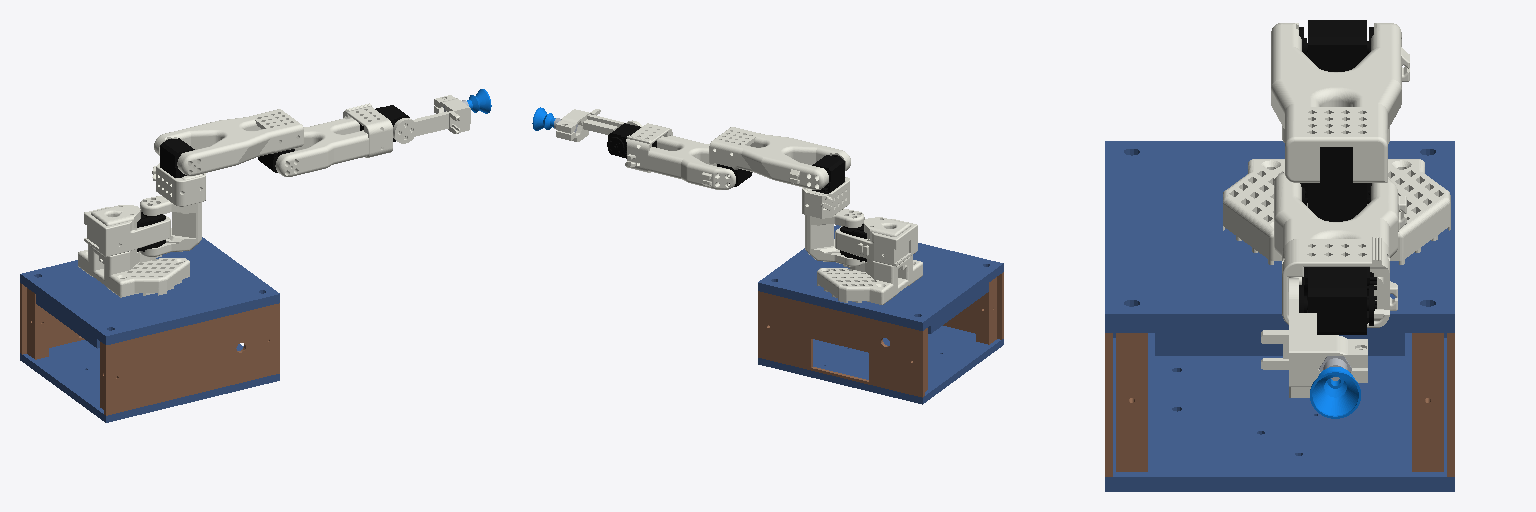
The robot description file, URDF, robot "soarm4":
<?xml version="1.0"?>
<!-- SO-ARM4 (SO-ARM101 based 4-DOF + vacuum tool v5) on the electronics box.  Generated by make_urdf_v2.py - edit that, not this.
     Geometry = official SO-101 CAD (TheRobotStudio so101_new_calib.urdf) + our parts.
     base_link : table surface right under the J1 axis.  x = forward (box front wall), y = left, z = up.
     zero pose : arm stretched forward and level.  joint1 + = CCW from above, joint2/3/4 + = link goes up.
     servo count <-> angle : config/servo_map.yaml  (same as v1, soarm_bridge unchanged)
     key numbers (mm, base_link) : box top z 95.0 | J1 output z 159.8 | J2 axis x 30.4 z 214.0
                                   J2->J3 (112.6, -28.0) | J3->J4 (134.9, 5.2) | J4->cup lip (104.0, -0.5, 0.0) -->
<robot name="soarm4">
  <material name="print"><color rgba="0.92 0.92 0.88 1"/></material><material name="servo"><color rgba="0.10 0.10 0.10 1"/></material><material name="alu"><color rgba="0.75 0.77 0.80 1"/></material><material name="cup"><color rgba="0.10 0.55 0.95 1"/></material><material name="box_plate"><color rgba="0.30 0.42 0.62 1"/></material><material name="box_wall"><color rgba="0.62 0.46 0.36 1"/></material>
  <link name="world"/>
  <joint name="world_fixed" type="fixed"><parent link="world"/><child link="base_link"/><origin xyz="0 0 0" rpy="0 0 0"/></joint>

  <link name="base_link">
    <visual><origin xyz="0 0 0" rpy="0 0 0"/><geometry><mesh filename="package://soarm4_description/meshes/visual/base_link_print.stl"/></geometry><material name="print"/></visual>
    <visual><origin xyz="0 0 0" rpy="0 0 0"/><geometry><mesh filename="package://soarm4_description/meshes/visual/base_link_servo.stl"/></geometry><material name="servo"/></visual>
    <visual><origin xyz="0 0 0" rpy="0 0 0"/><geometry><mesh filename="package://soarm4_description/meshes/visual/base_link_box_plate.stl"/></geometry><material name="box_plate"/></visual>
    <visual><origin xyz="0 0 0" rpy="0 0 0"/><geometry><mesh filename="package://soarm4_description/meshes/visual/base_link_box_wall.stl"/></geometry><material name="box_wall"/></visual>
    <collision><origin xyz="-0.0177 -0.0275 0.0475" rpy="0 0 0"/><geometry><box size="0.2000 0.1700 0.0950"/></geometry></collision>
    <collision><origin xyz="0 0 0" rpy="0 0 0"/><geometry><mesh filename="package://soarm4_description/meshes/collision/base_link.stl"/></geometry></collision>
    <inertial><origin xyz="-0.0183 -0.0208 0.0673" rpy="0 0 0"/><mass value="0.7280"/><inertia ixx="2.753e-03" ixy="1.283e-05" ixz="6.264e-05" iyy="3.355e-03" iyz="-1.190e-04" izz="3.810e-03"/></inertial>
  </link>
  <joint name="joint1" type="revolute"><parent link="base_link"/><child link="link1"/>
    <origin xyz="0.00000 0.00000 0.15980" rpy="0 0 0"/><axis xyz="0 0 1"/>
    <limit lower="-2.1859" upper="1.8208" effort="2.9" velocity="2.36"/>
  </joint>

  <link name="link1">
    <visual><origin xyz="0 0 0" rpy="0 0 0"/><geometry><mesh filename="package://soarm4_description/meshes/visual/link1_servo.stl"/></geometry><material name="servo"/></visual>
    <visual><origin xyz="0 0 0" rpy="0 0 0"/><geometry><mesh filename="package://soarm4_description/meshes/visual/link1_print.stl"/></geometry><material name="print"/></visual>
    <collision><origin xyz="0 0 0" rpy="0 0 0"/><geometry><mesh filename="package://soarm4_description/meshes/collision/link1.stl"/></geometry></collision>
    <inertial><origin xyz="0.0275 0.0003 0.0218" rpy="0 0 0"/><mass value="0.1106"/><inertia ixx="1.053e-04" ixy="2.047e-07" ixz="-1.034e-05" iyy="1.128e-04" iyz="-1.084e-07" izz="4.208e-05"/></inertial>
  </link>
  <joint name="joint2" type="revolute"><parent link="link1"/><child link="link2"/>
    <origin xyz="0.03040 0.00000 0.05420" rpy="0 0 0"/><axis xyz="0 -1 0"/>
    <limit lower="0.0000" upper="3.3993" effort="2.9" velocity="2.36"/>
  </joint>

  <link name="link2">
    <visual><origin xyz="0 0 0" rpy="0 0 0"/><geometry><mesh filename="package://soarm4_description/meshes/visual/link2_servo.stl"/></geometry><material name="servo"/></visual>
    <visual><origin xyz="0 0 0" rpy="0 0 0"/><geometry><mesh filename="package://soarm4_description/meshes/visual/link2_print.stl"/></geometry><material name="print"/></visual>
    <collision><origin xyz="0 0 0" rpy="0 0 0"/><geometry><mesh filename="package://soarm4_description/meshes/collision/link2.stl"/></geometry></collision>
    <inertial><origin xyz="0.0861 0.0004 -0.0082" rpy="0 0 0"/><mass value="0.1156"/><inertia ixx="4.836e-05" ixy="9.409e-07" ixz="1.538e-05" iyy="1.864e-04" iyz="-3.034e-10" izz="2.019e-04"/></inertial>
  </link>
  <joint name="joint3" type="revolute"><parent link="link2"/><child link="link3"/>
    <origin xyz="0.11257 0.00000 -0.02800" rpy="0 0 0"/><axis xyz="0 -1 0"/>
    <limit lower="-3.1401" upper="0.0000" effort="2.9" velocity="2.36"/>
  </joint>

  <link name="link3">
    <visual><origin xyz="0 0 0" rpy="0 0 0"/><geometry><mesh filename="package://soarm4_description/meshes/visual/link3_print.stl"/></geometry><material name="print"/></visual>
    <visual><origin xyz="0 0 0" rpy="0 0 0"/><geometry><mesh filename="package://soarm4_description/meshes/visual/link3_servo.stl"/></geometry><material name="servo"/></visual>
    <collision><origin xyz="0 0 0" rpy="0 0 0"/><geometry><mesh filename="package://soarm4_description/meshes/collision/link3.stl"/></geometry></collision>
    <inertial><origin xyz="0.0885 0.0005 0.0034" rpy="0 0 0"/><mass value="0.1173"/><inertia ixx="4.014e-05" ixy="-1.207e-06" ixz="-5.939e-06" iyy="2.099e-04" iyz="-1.275e-07" izz="2.315e-04"/></inertial>
  </link>
  <joint name="joint4" type="revolute"><parent link="link3"/><child link="tool_link"/>
    <origin xyz="0.13490 0.00000 0.00520" rpy="0 0 0"/><axis xyz="0 -1 0"/>
    <limit lower="-1.8807" upper="2.1276" effort="1.9" velocity="3.3"/>
  </joint>

  <link name="tool_link">
    <visual><origin xyz="0 0 0" rpy="0 0 0"/><geometry><mesh filename="package://soarm4_description/meshes/visual/tool_link_print.stl"/></geometry><material name="print"/></visual>
    <visual><origin xyz="0 0 0" rpy="0 0 0"/><geometry><mesh filename="package://soarm4_description/meshes/visual/tool_link_alu.stl"/></geometry><material name="alu"/></visual>
    <visual><origin xyz="0 0 0" rpy="0 0 0"/><geometry><mesh filename="package://soarm4_description/meshes/visual/tool_link_cup.stl"/></geometry><material name="cup"/></visual>
    <collision><origin xyz="0 0 0" rpy="0 0 0"/><geometry><mesh filename="package://soarm4_description/meshes/collision/tool_link.stl"/></geometry></collision>
    <inertial><origin xyz="0.0604 -0.0070 -0.0008" rpy="0 0 0"/><mass value="0.0348"/><inertia ixx="6.669e-06" ixy="-4.724e-06" ixz="1.821e-07" iyy="2.745e-05" iyz="-1.160e-08" izz="3.056e-05"/></inertial>
  </link>

  <!-- suction point: centre of the cup lip, x = approach direction -->
  <joint name="cup_tip_fixed" type="fixed"><parent link="tool_link"/><child link="cup_tip"/><origin xyz="0.10400 -0.00048 0.00000" rpy="0 0 0"/></joint>
  <link name="cup_tip"/>
  <!-- helper frames -->
  <joint name="box_top_fixed" type="fixed"><parent link="base_link"/><child link="box_top"/><origin xyz="0 0 0.0950" rpy="0 0 0"/></joint>
  <link name="box_top"/>
  <joint name="box_cad_fixed" type="fixed"><parent link="base_link"/><child link="box_cad"/><origin xyz="-0.01770 -0.02750 0.09500" rpy="0 0 0.000000"/></joint>
  <link name="box_cad"/>
</robot>

--- Facts derived from the render (not from the file) ---
The picture shows the robot from 3 angles, left to right: view 1: azimuth 30°, elevation 25°; view 2: azimuth 150°, elevation 25°; view 3: azimuth 270°, elevation 25°; orthographic projection.
Robot: soarm4 — 9 links, 8 joints (4 revolute, 4 fixed); root link world; default pose: all joints at 0.
Links seen in each view (by area): view 1: base_link, link2, link3, link1, tool_link; view 2: base_link, link2, link3, link1, tool_link; view 3: base_link, link2, link3, tool_link, link1.
Link boxes in pixels (box(x1,y1,x2,y2)): base_link: box(20, 205, 279, 422); link2: box(154, 109, 303, 175); link3: box(275, 103, 409, 176); link1: box(140, 138, 205, 256); tool_link: box(393, 89, 491, 143); base_link: box(758, 217, 1003, 404); link2: box(709, 127, 850, 189); link3: box(607, 123, 752, 189); link1: box(802, 155, 864, 266); tool_link: box(532, 107, 642, 141); base_link: box(1105, 141, 1454, 491); link2: box(1271, 23, 1409, 221); link3: box(1274, 173, 1406, 334); tool_link: box(1261, 278, 1367, 418); link1: box(1282, 20, 1389, 206).
Bounding box of the posed robot: 0.4996 × 0.17 × 0.226 m (x, y, z).
Meshes: 13 distinct files referenced, 13 mesh visuals loaded (13 binary STL).
